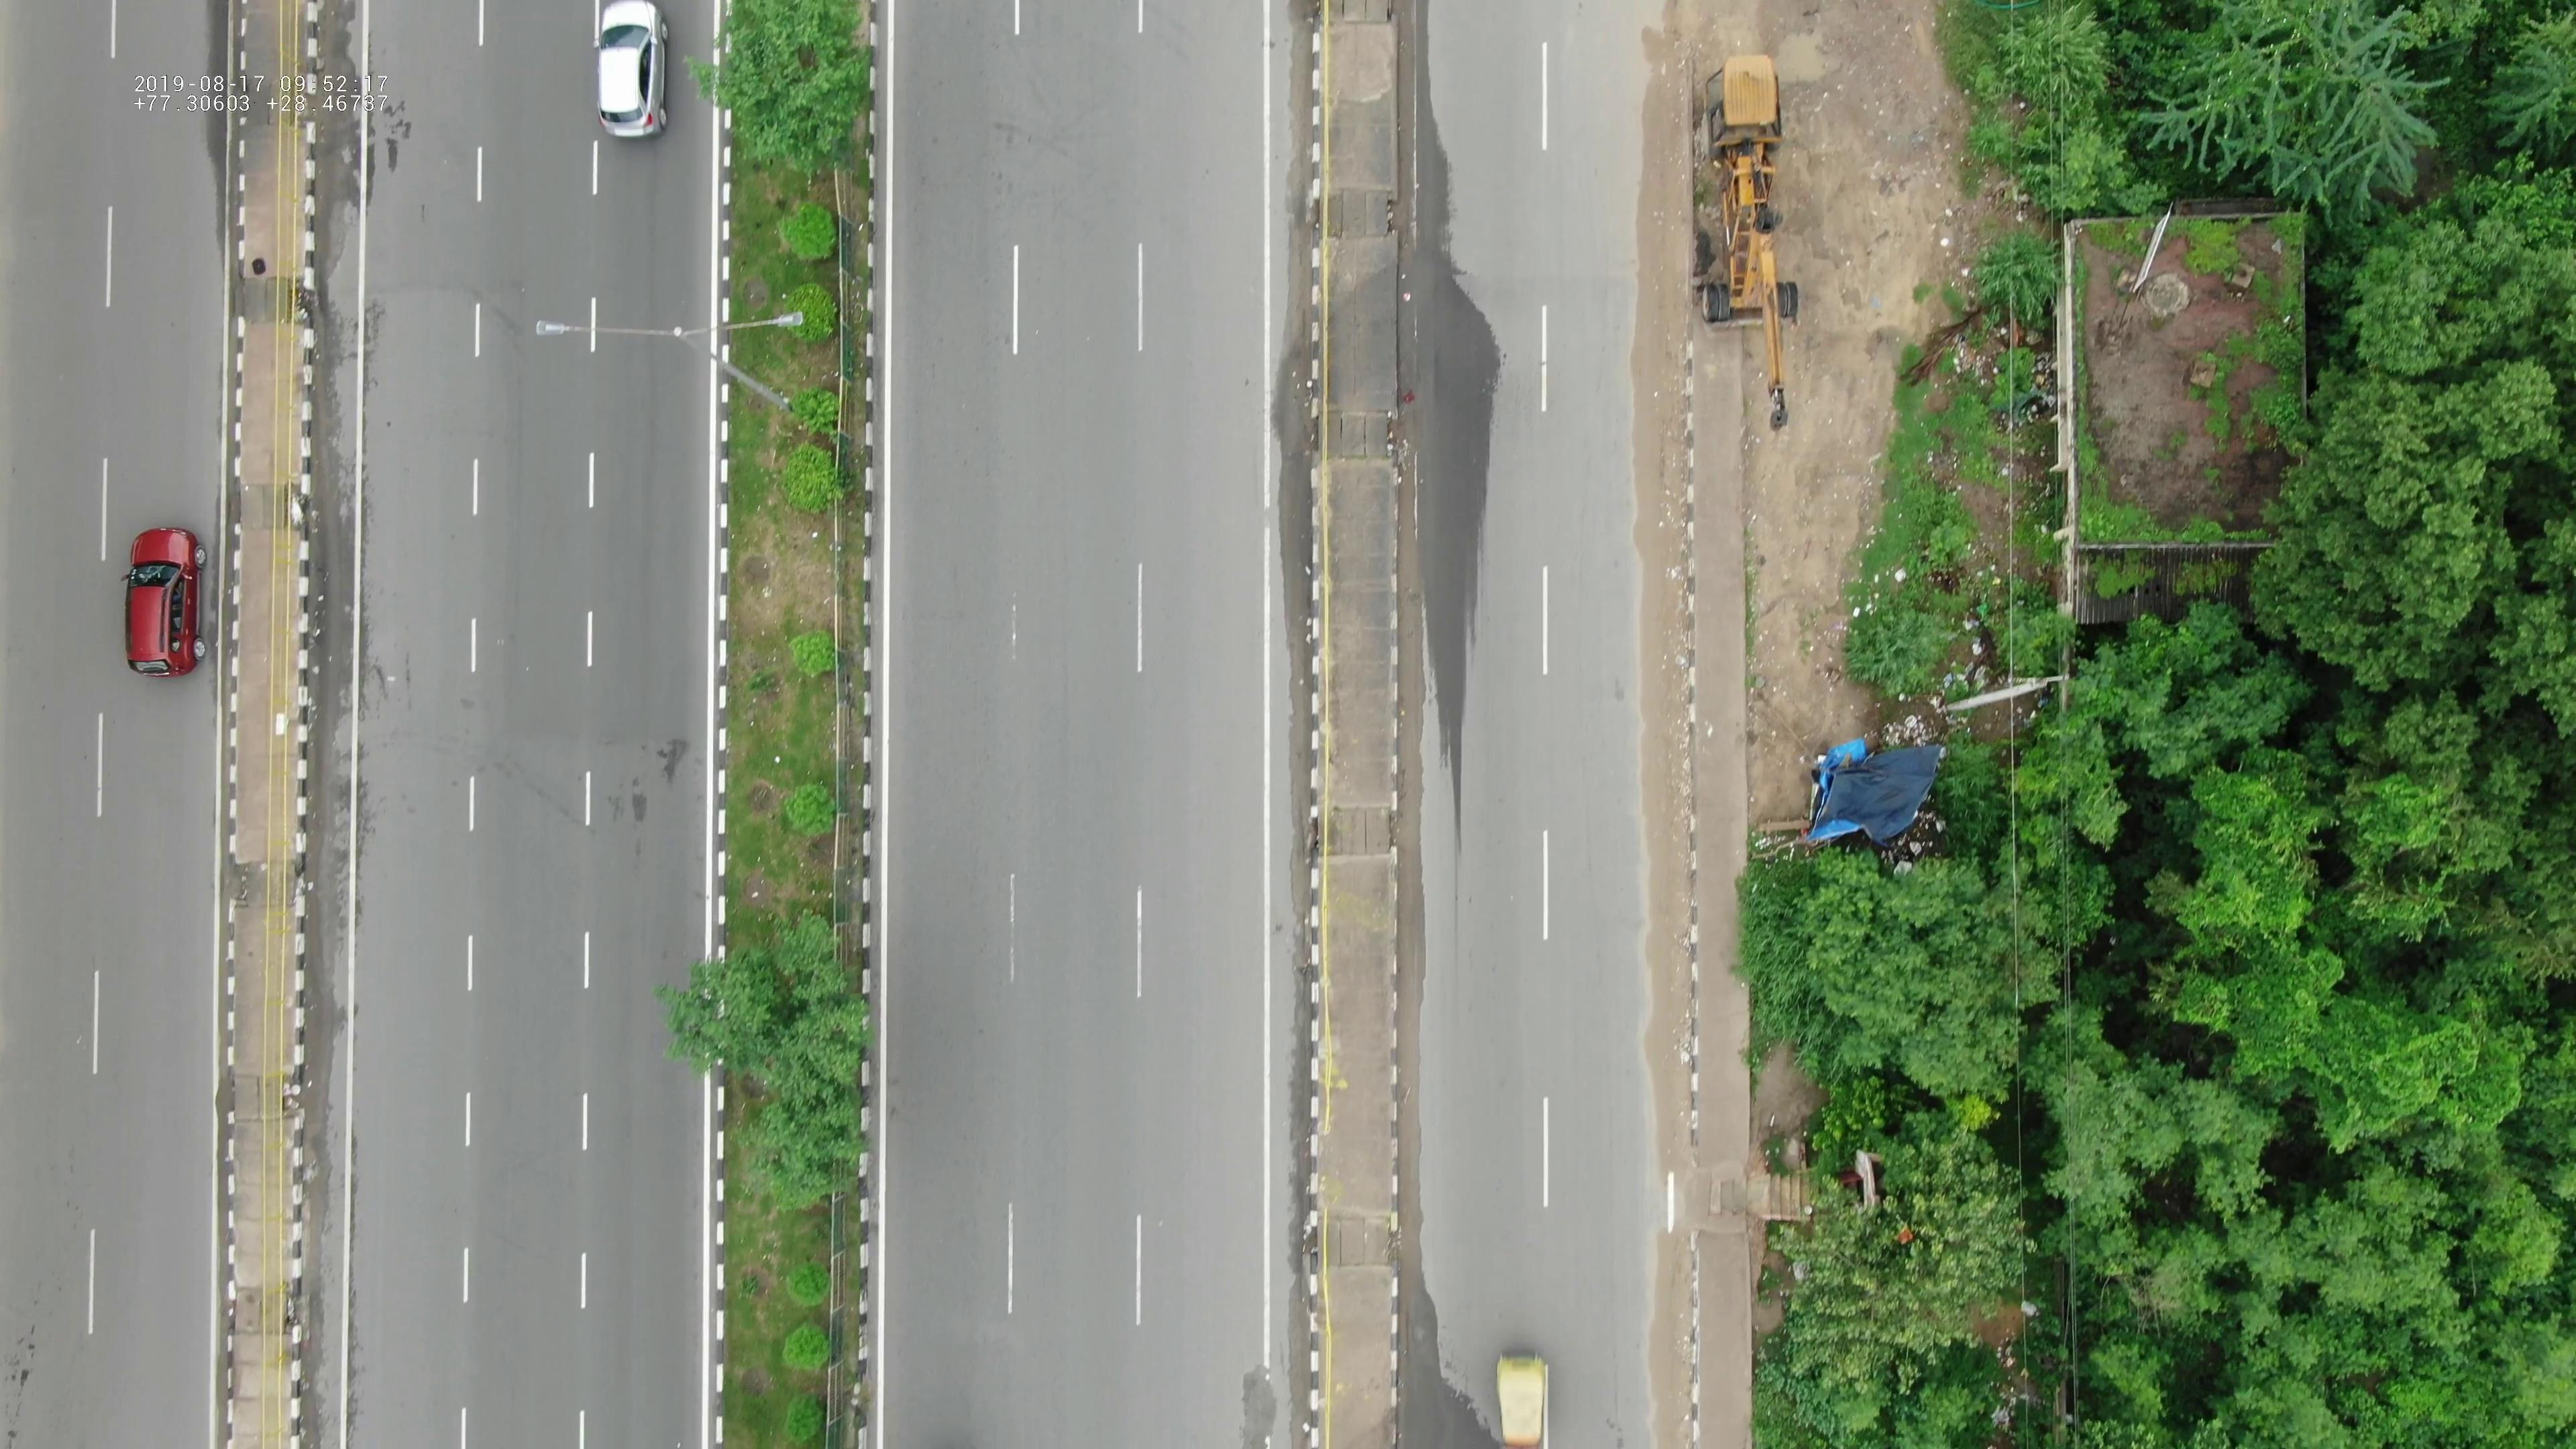Muddy_road: (1633, 541, 1702, 1152), (1626, 32, 1698, 517), (1642, 1244, 1695, 1445)
